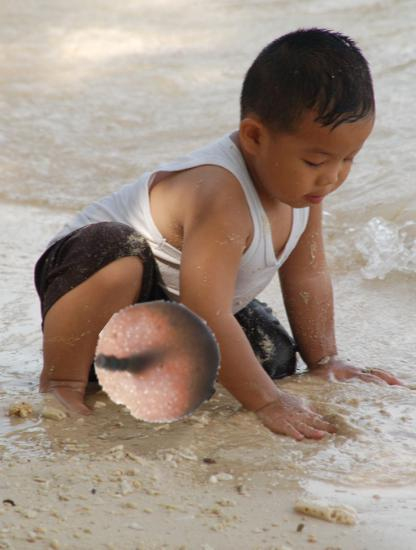Granadilla: (94, 298, 222, 426)
